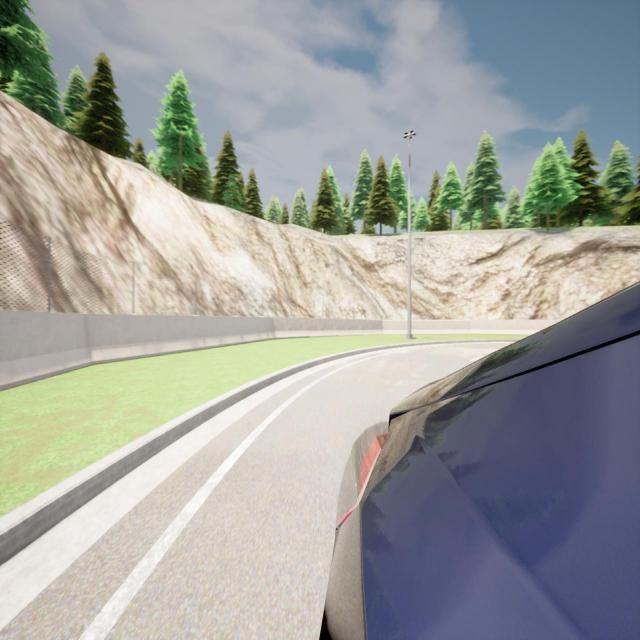Vehicle: (318, 284, 640, 640)
